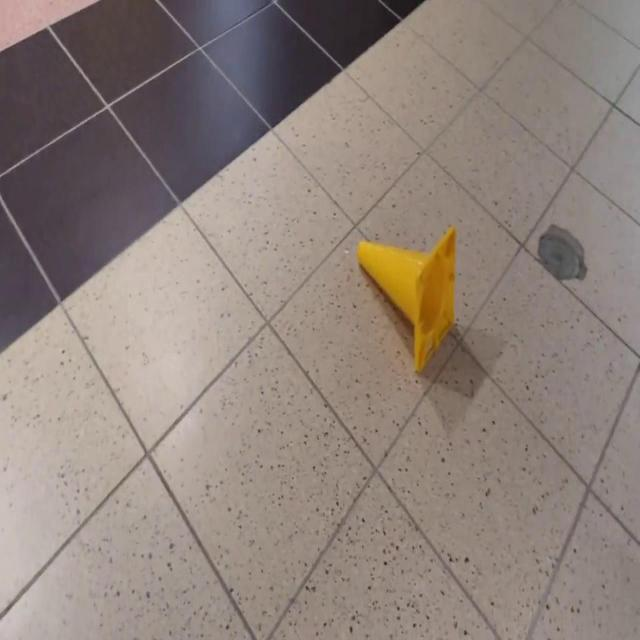frc_cone: (357, 226, 457, 373)
